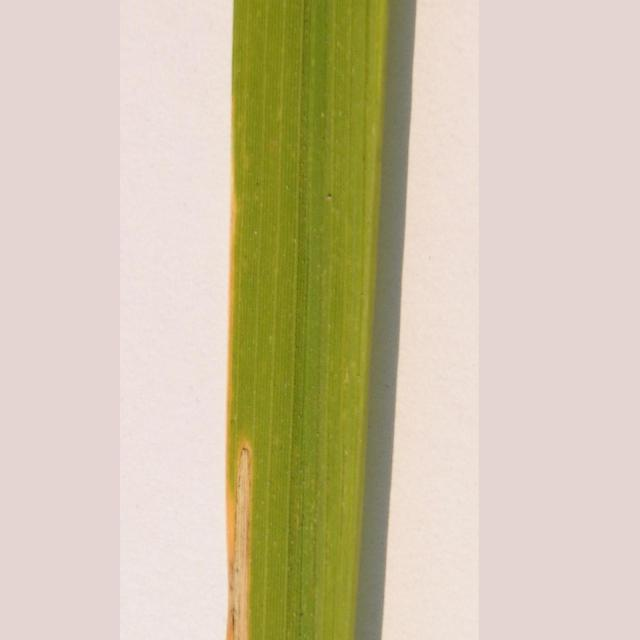Bacterial_Leaf_Blight: (206, 350, 286, 640)
